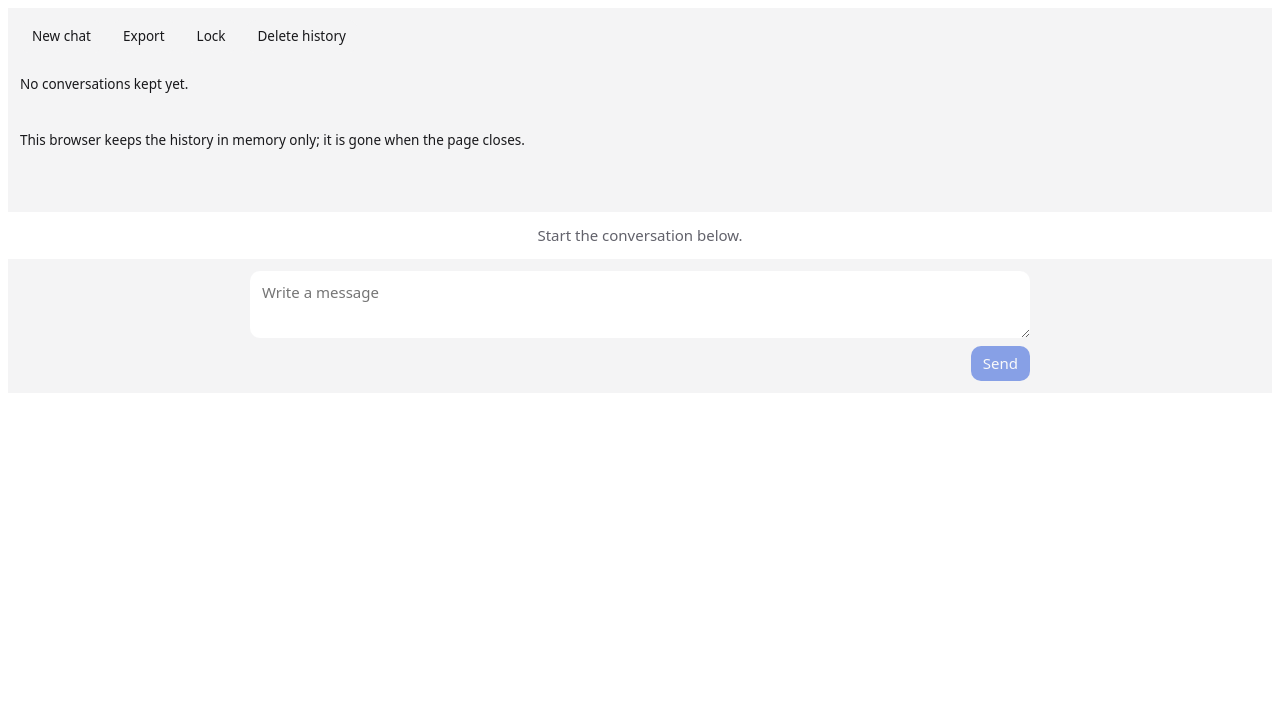
Test: <AnyrouteChat> › finished replies are written to an unlocked encrypted history and can be loaded back
Type "Keep this" into the text box labelled "message".
click(640, 304); type("Keep this")  # box [250, 271, 1030, 338]
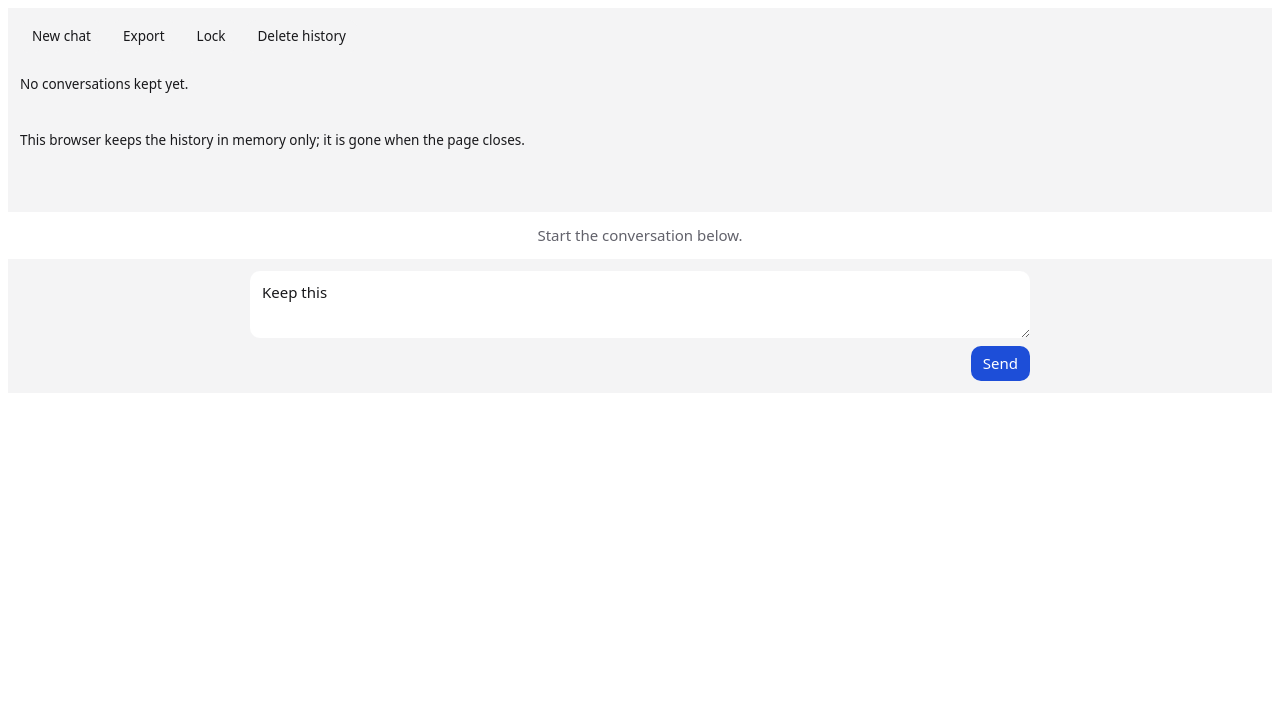
Press Enter in the text box named "message", box [250, 271, 1030, 338]
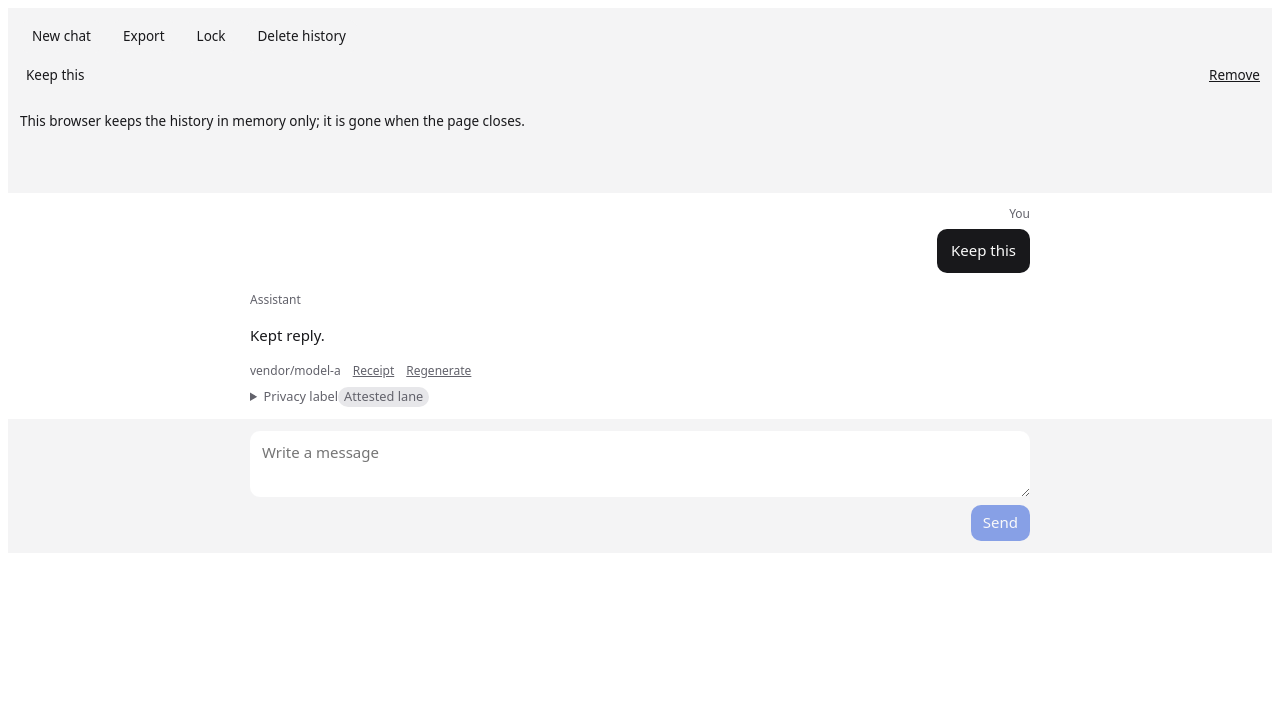
Expected: the text "Kept reply." is shown, [250, 325, 325, 345]
Click the button "New chat".
click(62, 36)  # box [20, 20, 103, 53]
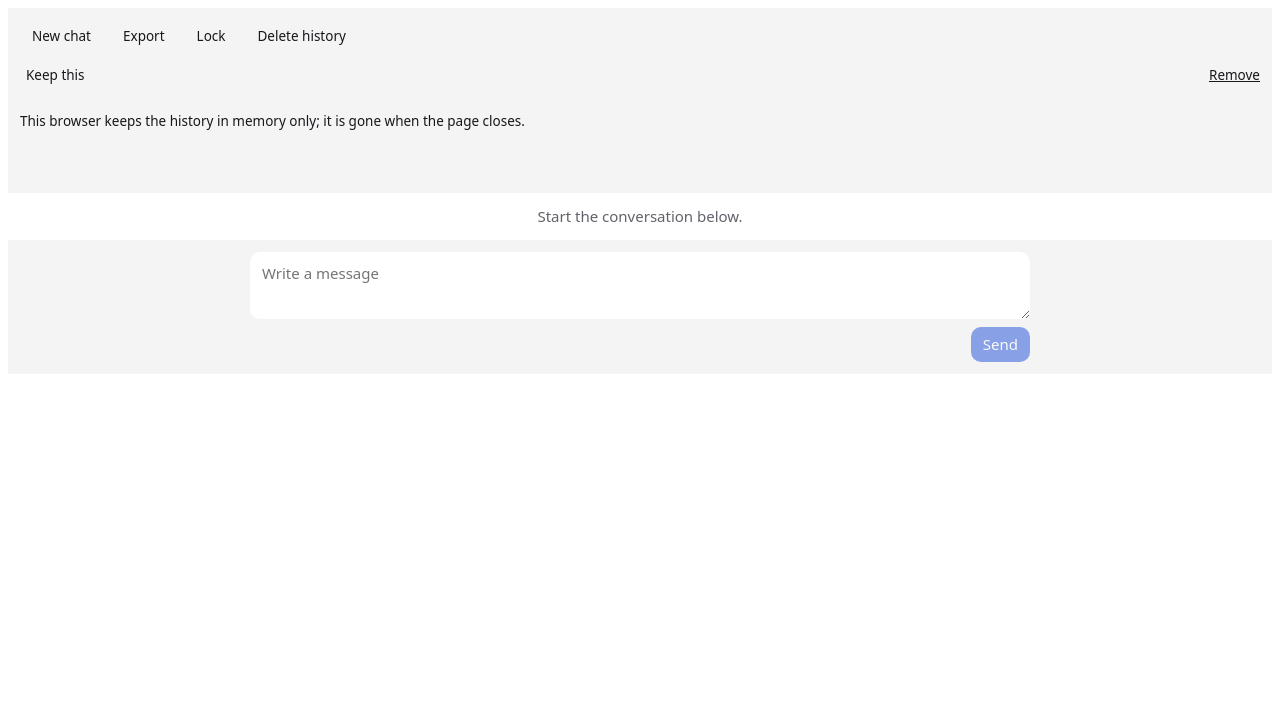
Click the button "Keep this".
click(55, 75)  # box [20, 61, 1201, 90]
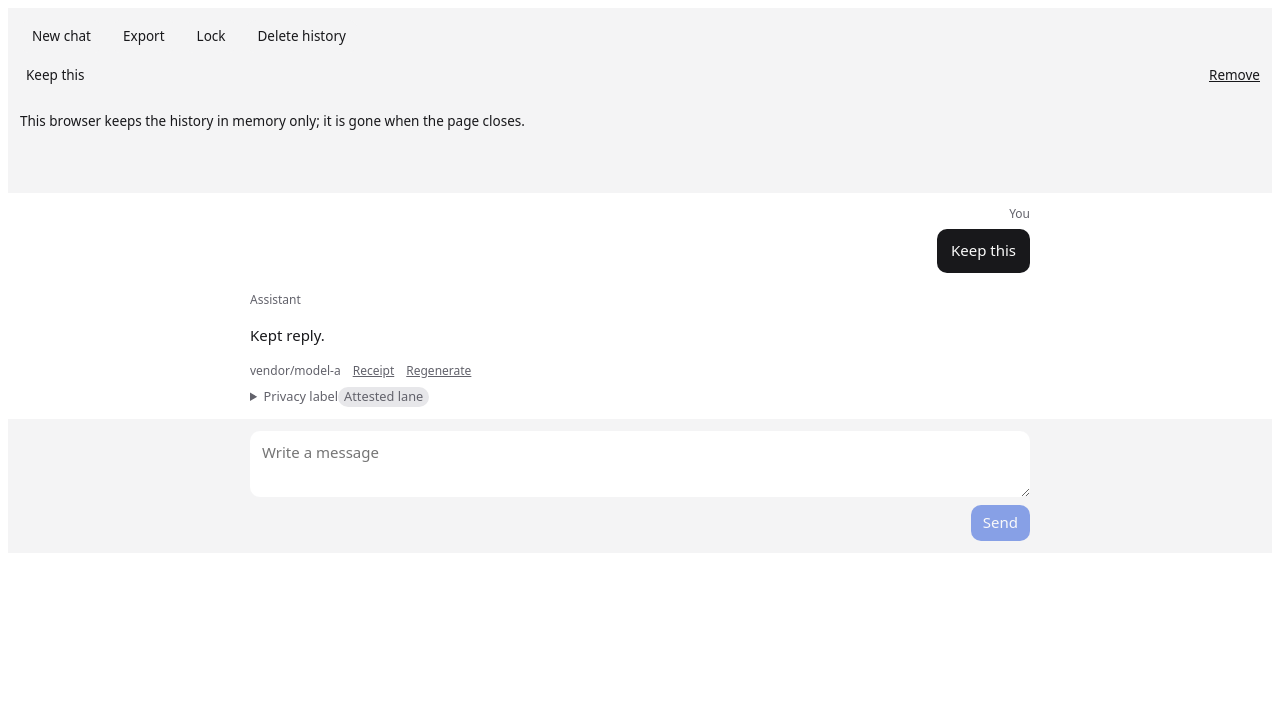
Expected: the text "Kept reply." is shown, [250, 325, 325, 345]
